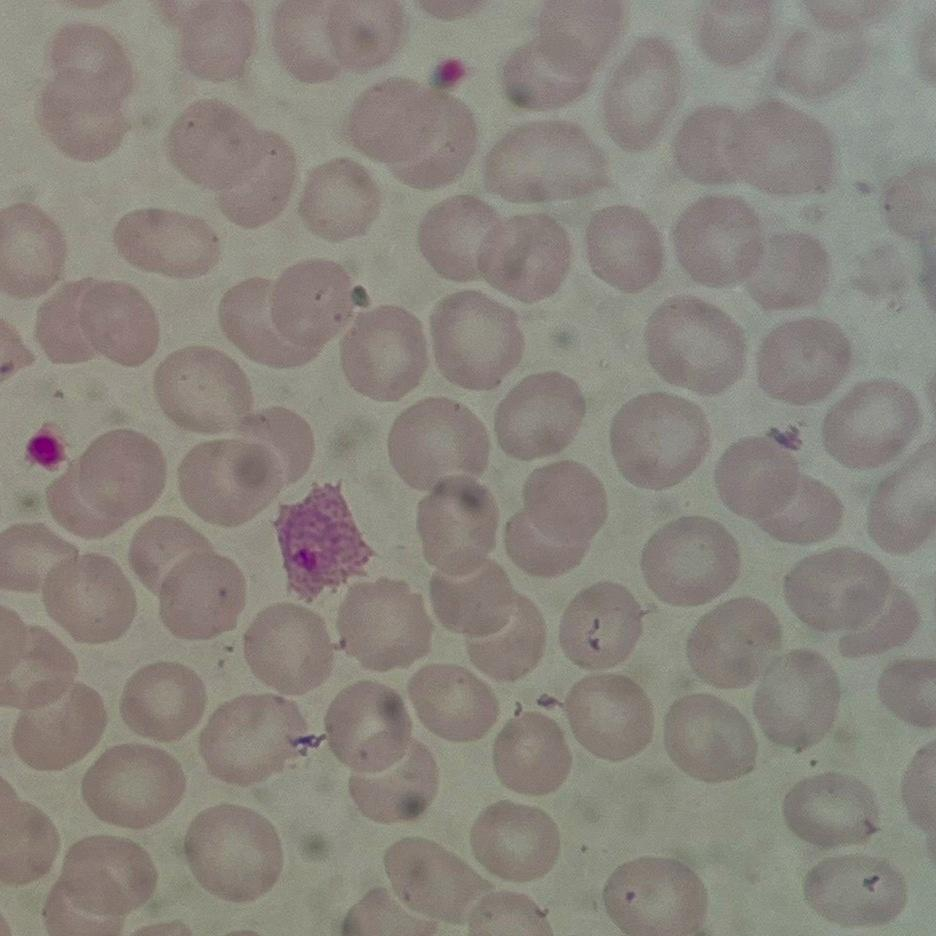Infected: (274, 479, 375, 605)
Uninfected: (674, 99, 833, 198), (343, 77, 477, 188), (44, 427, 167, 538), (502, 2, 625, 109), (38, 33, 136, 160), (714, 437, 831, 543), (167, 97, 289, 195), (502, 460, 605, 574), (273, 0, 402, 83), (482, 121, 607, 206), (176, 436, 288, 528), (388, 397, 495, 493), (182, 803, 285, 902), (782, 546, 892, 638), (640, 298, 744, 394), (204, 693, 309, 787), (608, 392, 710, 488), (47, 834, 155, 922), (428, 290, 524, 387), (266, 258, 359, 358), (152, 344, 255, 434), (637, 515, 738, 606), (598, 40, 682, 149), (668, 194, 765, 288), (81, 741, 185, 828), (321, 679, 417, 773), (472, 213, 570, 305), (239, 602, 335, 695), (41, 552, 138, 644), (384, 834, 488, 919), (335, 578, 430, 671), (10, 679, 106, 771), (154, 549, 249, 641), (412, 476, 502, 573), (818, 378, 916, 467), (659, 692, 757, 781), (492, 370, 586, 461), (682, 596, 777, 686), (339, 304, 429, 399), (558, 580, 650, 672), (560, 672, 655, 760), (756, 649, 842, 746), (866, 436, 936, 553), (772, 18, 870, 101), (70, 278, 162, 366), (754, 316, 847, 401), (346, 740, 440, 824), (162, 1, 257, 84), (113, 207, 219, 281), (468, 802, 561, 886), (217, 276, 301, 369), (601, 856, 702, 933), (424, 558, 518, 640), (406, 661, 499, 742), (128, 513, 217, 597), (802, 852, 905, 924), (416, 195, 501, 281), (118, 660, 207, 742), (742, 229, 831, 311), (781, 770, 875, 847), (582, 205, 663, 293), (2, 623, 82, 712), (295, 159, 380, 240), (464, 596, 544, 682), (238, 405, 315, 488), (493, 711, 571, 792), (1, 520, 76, 594), (694, 1, 772, 66)
